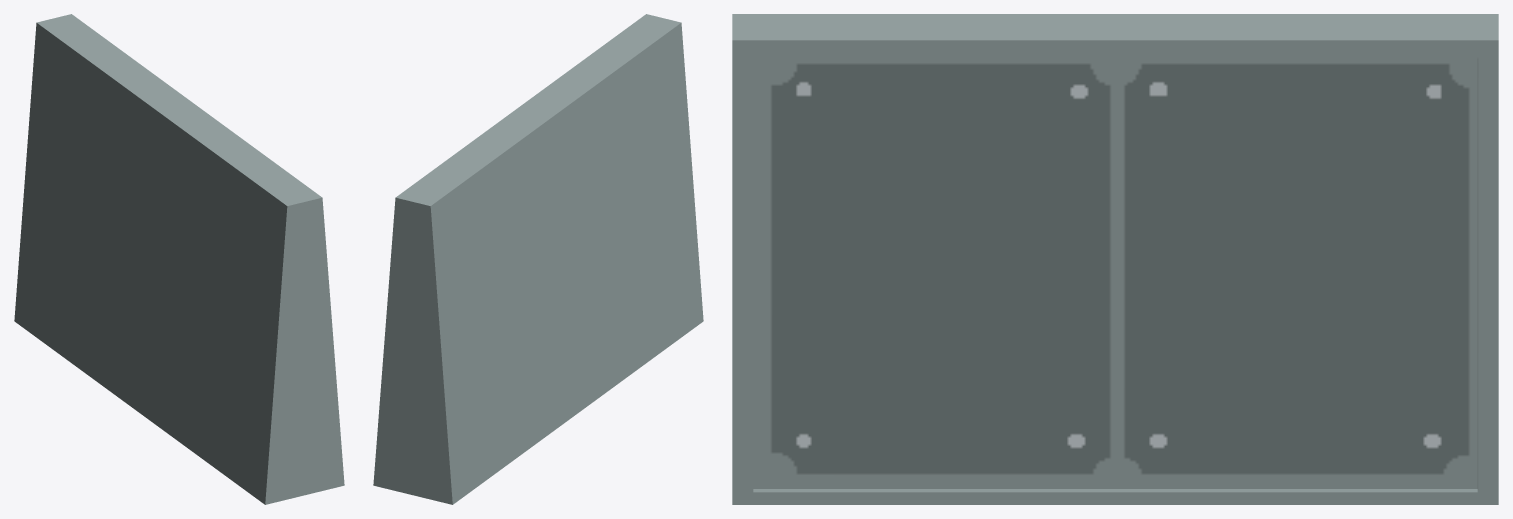
File: ganymedeWall.obj
3 renders of one model, left to right at view 1: azimuth 30°, elevation 25°; view 2: azimuth 150°, elevation 25°; view 3: azimuth 270°, elevation 25°, orthographic. The views are drawn at different scales.
Parts seen in each view (by area): view 1: Cube; view 2: Cube; view 3: Cube.
Part boxes in pixels (left/top/right/bottom): Cube: left=14, top=14, right=344, bottom=504; Cube: left=373, top=14, right=703, bottom=504; Cube: left=732, top=14, right=1498, bottom=504.
Bounding box in the file's own units: 1.09 × 3.85 × 5.96.
1 material, 1 textured.
